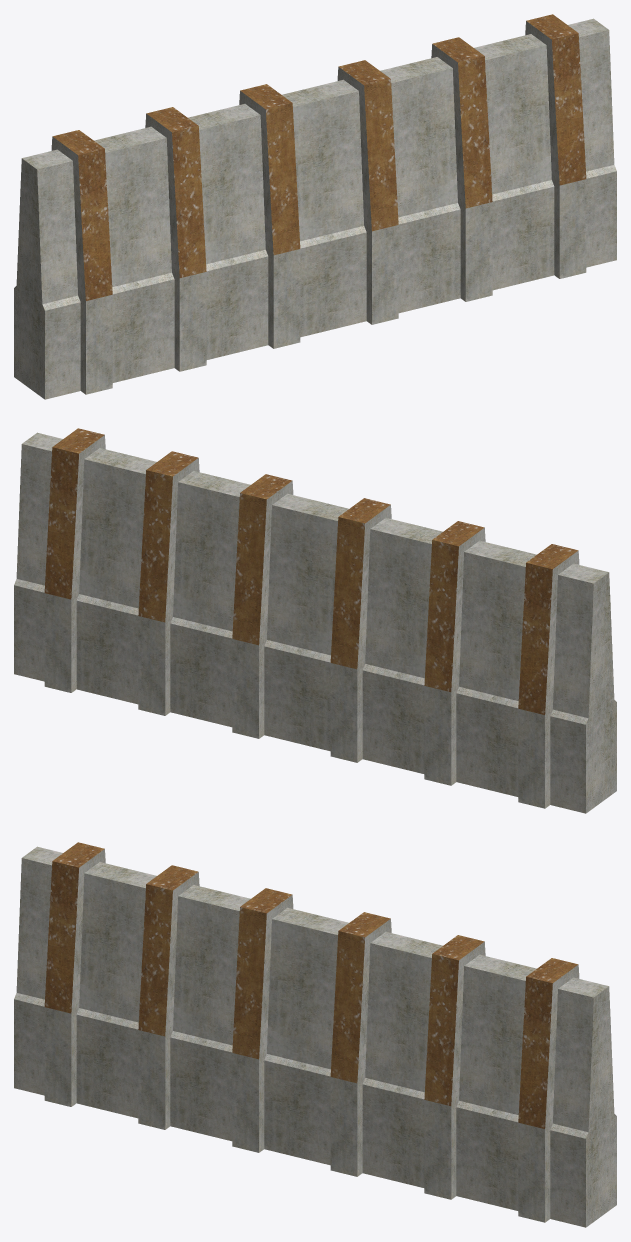
The model's file is mun_all_military_wall_med_rebl_16_s01_l0.fbx.
The picture shows the model from 3 angles, top to bottom: view 1: azimuth 30°, elevation 25°; view 2: azimuth 150°, elevation 25°; view 3: azimuth 330°, elevation 25°; orthographic projection.
Visible parts, largest first — view 1: mesh_node; view 2: mesh_node; view 3: mesh_node.
Part boxes in pixels (x1,y1,x2,y2): mesh_node: (14,14,616,399); mesh_node: (14,428,616,813); mesh_node: (14,842,616,1227).
Bounding box in the file's own units: 16 × 6.25 × 2.
